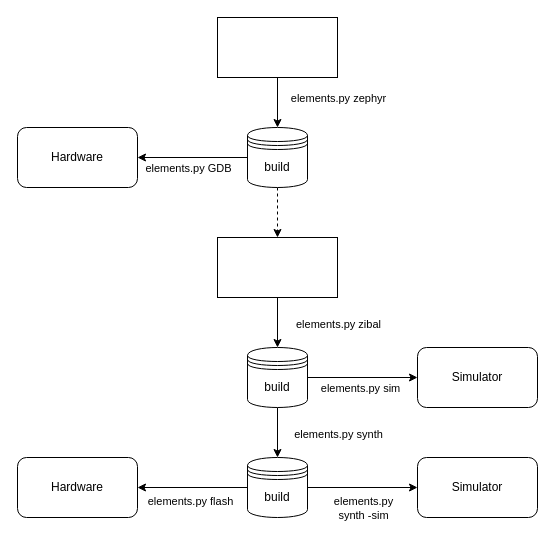
The diagram is 555 pixels wide and 538 high, and some of its shapes have lost their labels. Each missing label, with the box of its shape:
Zephyr: (216, 16, 338, 78)
Zibal: (216, 236, 338, 298)
